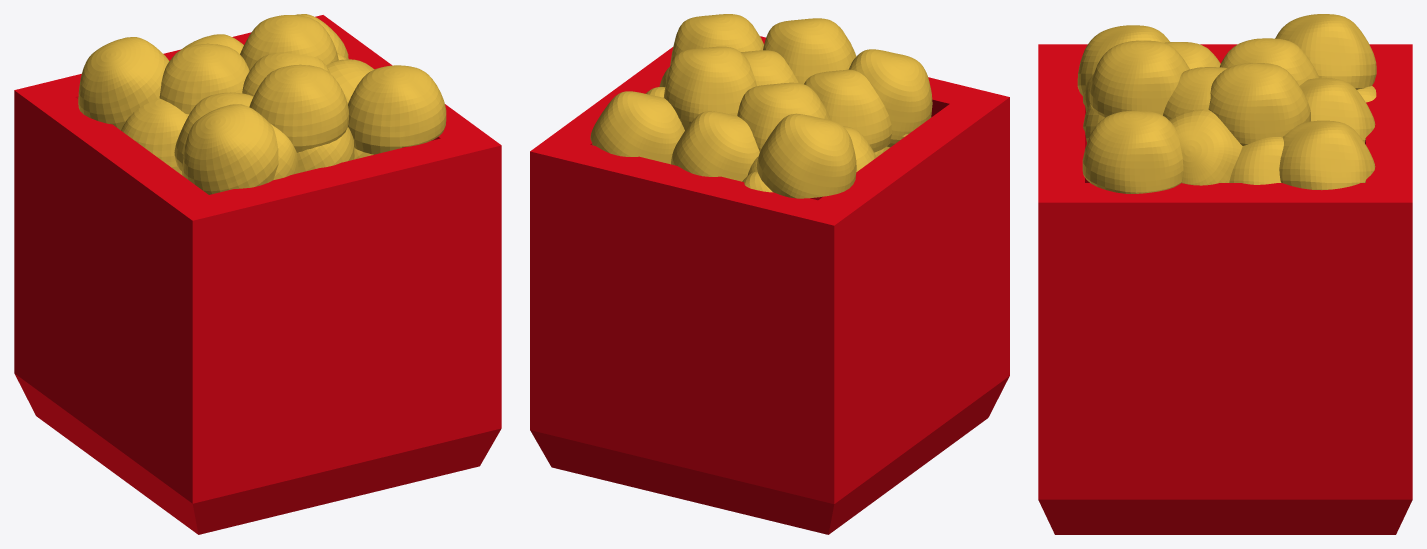
The model's file is Popcorn.fbx.
The picture shows the model from 3 angles, left to right: view 1: azimuth 30°, elevation 25°; view 2: azimuth 150°, elevation 25°; view 3: azimuth 270°, elevation 25°; orthographic projection. The views are drawn at different scales.
Visible parts, largest first — view 1: Cube, Sphere, Sphere.020, Sphere.022, Sphere.021, Sphere.013, Sphere.006, Sphere.014, Sphere.001, Sphere.015, Sphere.005, Sphere.019 (+1 smaller); view 2: Cube, Sphere.021, Sphere.006, Sphere.003, Sphere.002, Sphere.020, Sphere.022, Sphere.005, Sphere.013, Sphere, Sphere.015, Sphere.014; view 3: Cube, Sphere, Sphere.006, Sphere.022, Sphere.003, Sphere.021, Sphere.019, Sphere.002, Sphere.013, Sphere.017, Sphere.020, Sphere.015 (+1 smaller).
Boxes of the visible parts, x1=… form: Cube: x1=14, y1=15, x2=501, y2=534; Sphere: x1=348, y1=65, x2=446, y2=156; Sphere.020: x1=182, y1=104, x2=278, y2=194; Sphere.022: x1=249, y1=64, x2=348, y2=152; Sphere.021: x1=78, y1=37, x2=169, y2=130; Sphere.013: x1=159, y1=43, x2=249, y2=114; Sphere.006: x1=240, y1=15, x2=338, y2=70; Sphere.014: x1=121, y1=98, x2=186, y2=174; Sphere.001: x1=297, y1=127, x2=354, y2=172; Sphere.015: x1=242, y1=53, x2=330, y2=96; Sphere.005: x1=174, y1=92, x2=253, y2=171; Sphere.019: x1=326, y1=59, x2=374, y2=103; Cube: x1=530, y1=36, x2=1009, y2=534; Sphere.021: x1=756, y1=113, x2=856, y2=198; Sphere.006: x1=663, y1=46, x2=756, y2=130; Sphere.003: x1=590, y1=91, x2=684, y2=164; Sphere.002: x1=671, y1=111, x2=759, y2=181; Sphere.020: x1=848, y1=49, x2=932, y2=146; Sphere.022: x1=763, y1=18, x2=856, y2=83; Sphere.005: x1=804, y1=69, x2=892, y2=152; Sphere.013: x1=737, y1=82, x2=830, y2=151; Sphere: x1=670, y1=14, x2=763, y2=65; Sphere.015: x1=741, y1=50, x2=798, y2=85; Sphere.014: x1=843, y1=126, x2=876, y2=171; Cube: x1=1038, y1=44, x2=1412, y2=534; Sphere: x1=1082, y1=111, x2=1183, y2=193; Sphere.006: x1=1208, y1=63, x2=1310, y2=145; Sphere.022: x1=1089, y1=40, x2=1189, y2=117; Sphere.003: x1=1279, y1=120, x2=1375, y2=190; Sphere.021: x1=1275, y1=14, x2=1376, y2=89; Sphere.019: x1=1169, y1=109, x2=1242, y2=185; Sphere.002: x1=1299, y1=78, x2=1375, y2=142; Sphere.013: x1=1220, y1=38, x2=1318, y2=85; Sphere.017: x1=1229, y1=137, x2=1283, y2=184; Sphere.020: x1=1077, y1=25, x2=1169, y2=95; Sphere.015: x1=1163, y1=67, x2=1226, y2=119.
Bounding box in the file's own units: 200 × 246 × 200.
